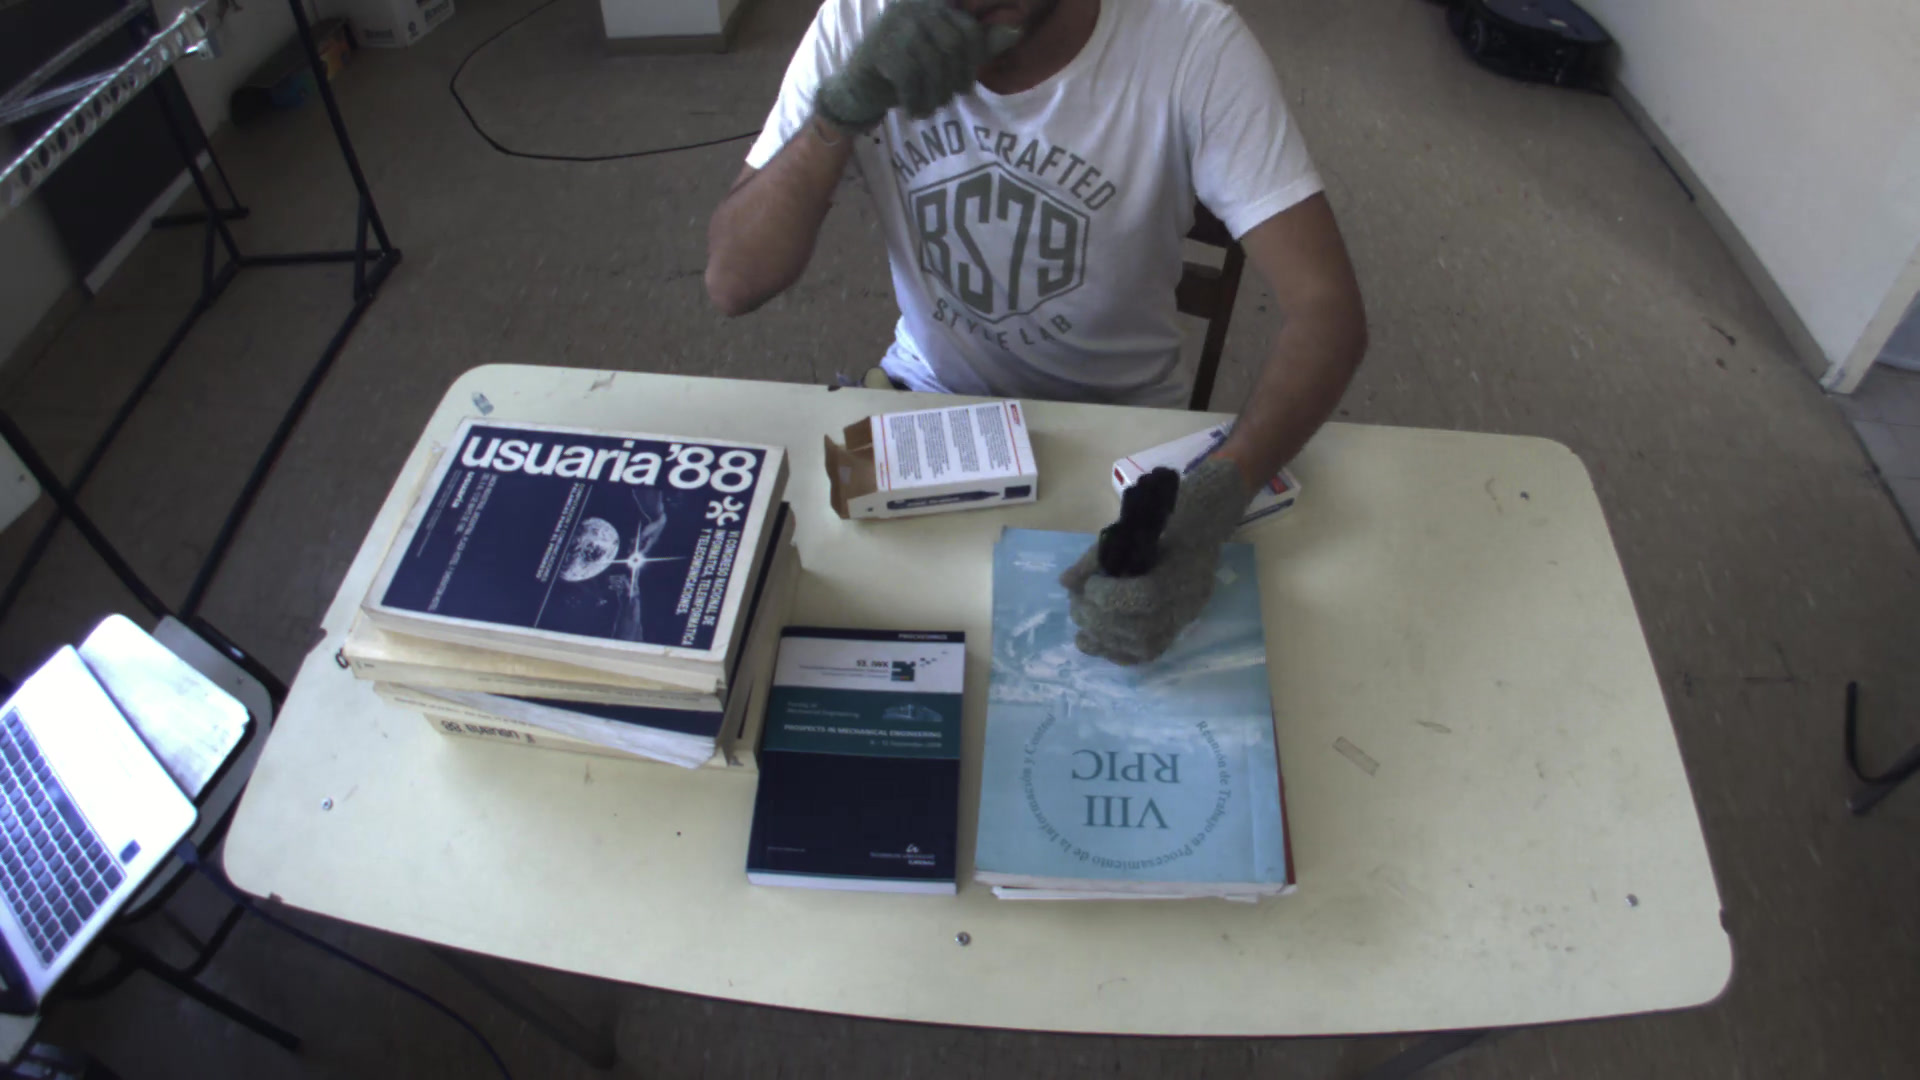hand: (1050, 446, 1313, 667), (682, 121, 858, 311)
